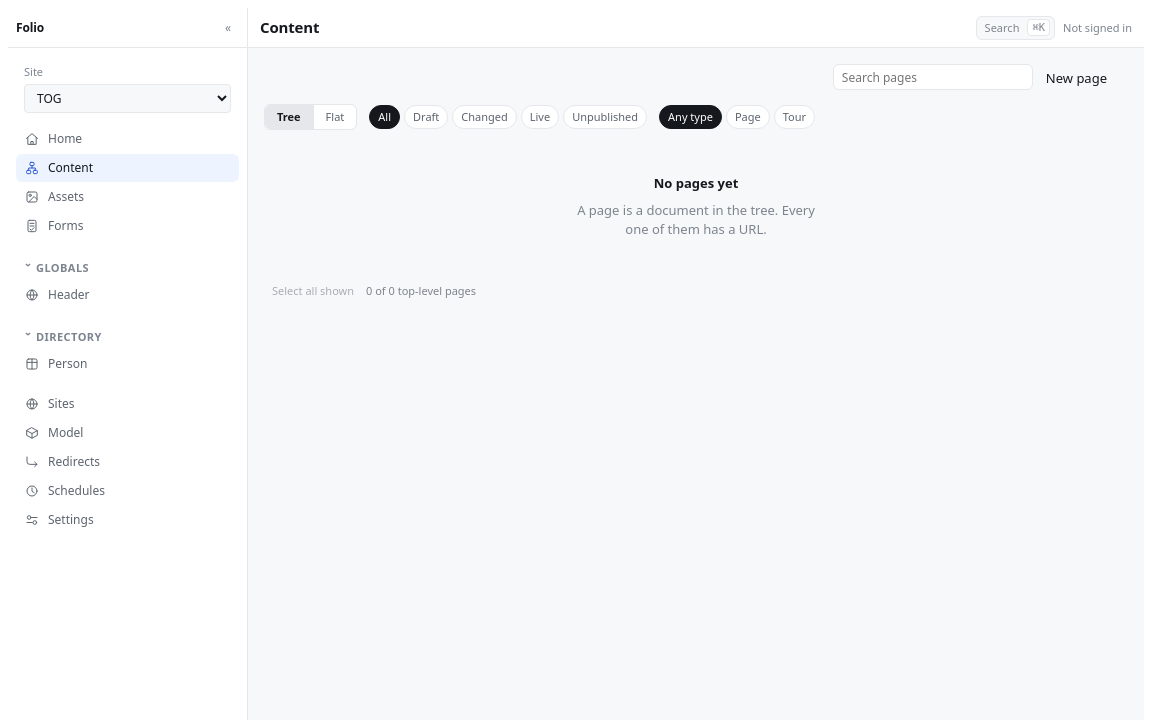
Test: the admin on a deployment with brands › lists the scope’s brand’s types in the New menu, and the other brand’s in none
The width and height of the screenshot is (1152, 720).
What coordinates should you click on to do the following:
click the button "New page"
I would click on:
 (1076, 78)
Its box is [1037, 64, 1116, 92].
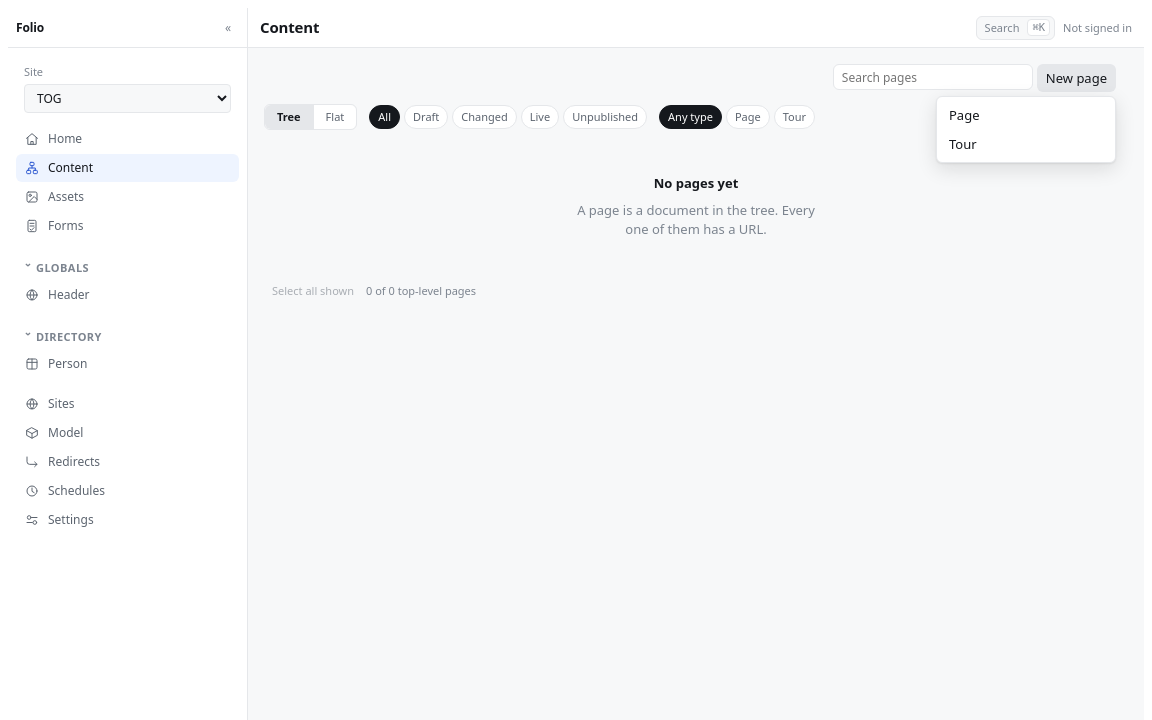
Now the menu item "Tour" is shown, box [941, 130, 1111, 158]
